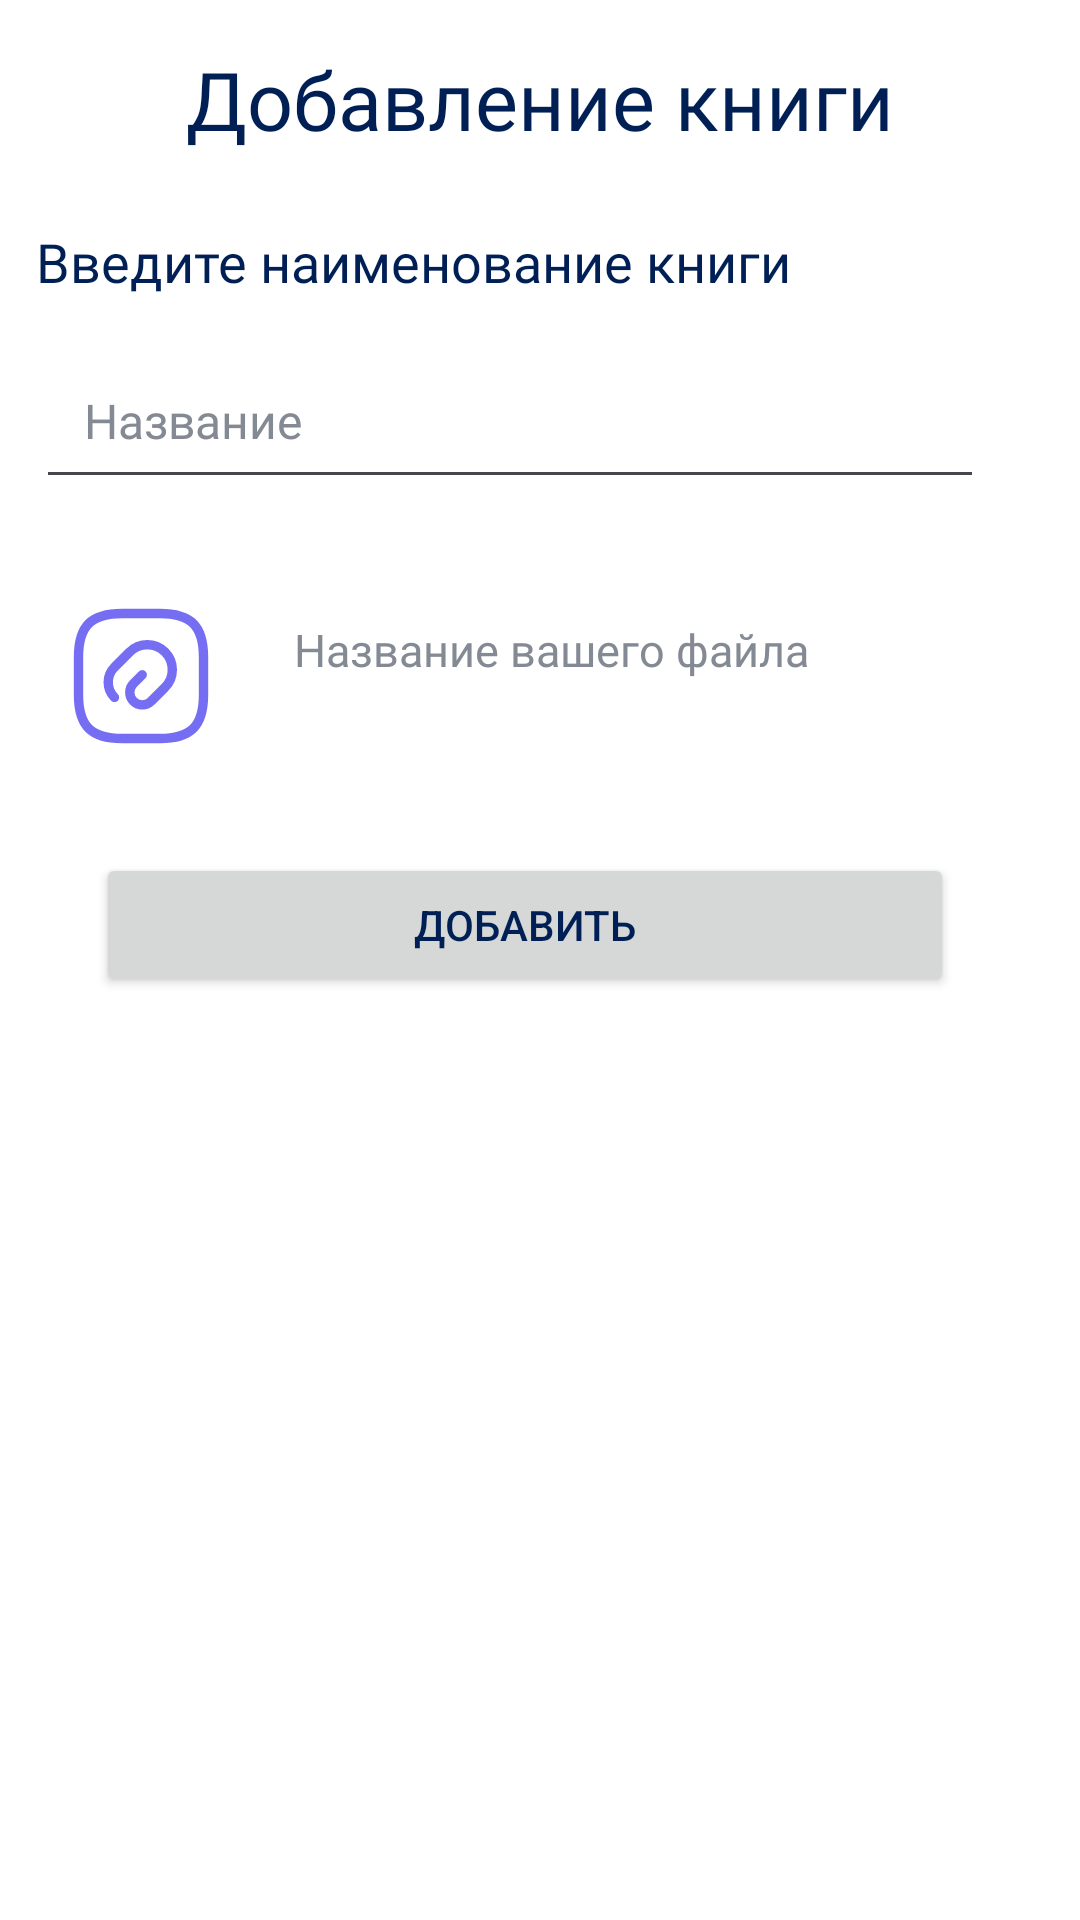

Named icons in this screenshot (1080x1920) and their centers, (x=x, y=y):
attach file: (x=141, y=676)
